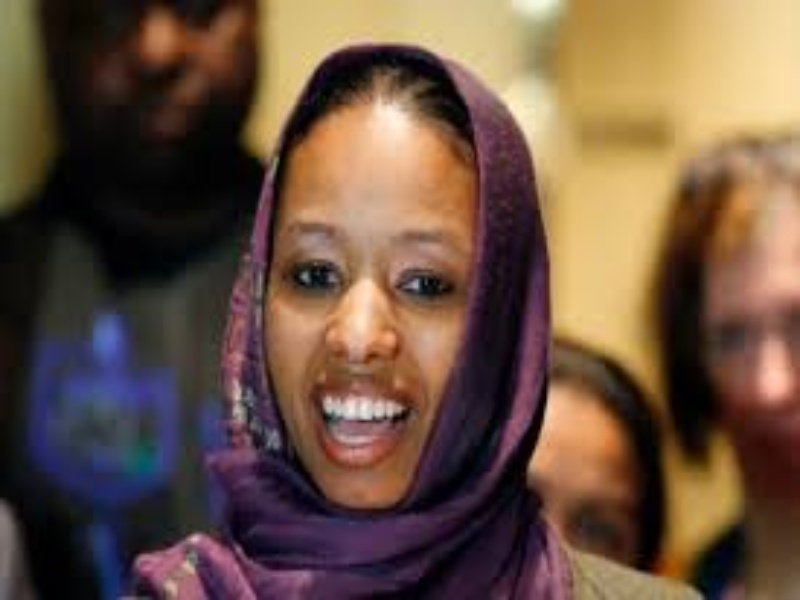face: (267, 203, 470, 476)
